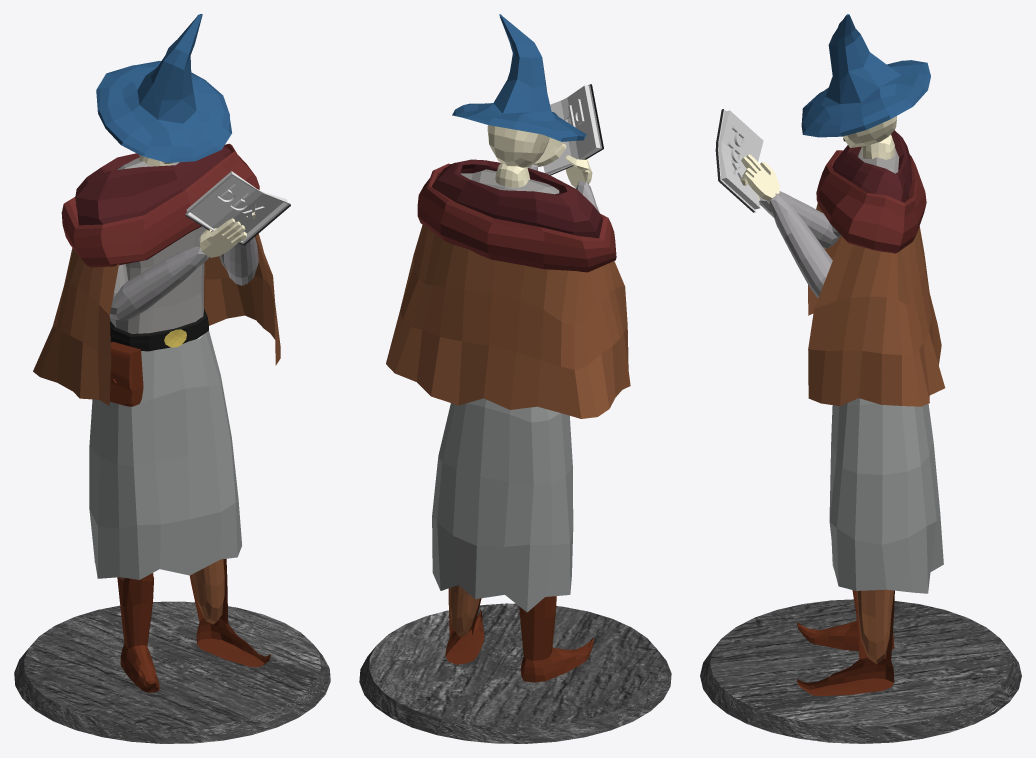
The model's file is magoModelov3.glb.
The picture shows the model from 3 angles, left to right: view 1: azimuth 30°, elevation 25°; view 2: azimuth 150°, elevation 25°; view 3: azimuth 270°, elevation 25°; orthographic projection. The views are drawn at different scales.
Parts seen in each view (by area): view 1: torsico; view 2: torsico; view 3: torsico.
Boxes of the visible parts, x1=… form: torsico: x1=14, y1=14, x2=330, y2=743; torsico: x1=359, y1=14, x2=671, y2=743; torsico: x1=700, y1=14, x2=1021, y2=743.
Size of the model in its own units: 0.7354 by 1.69 by 0.7354.
14 materials, 1 textured.
